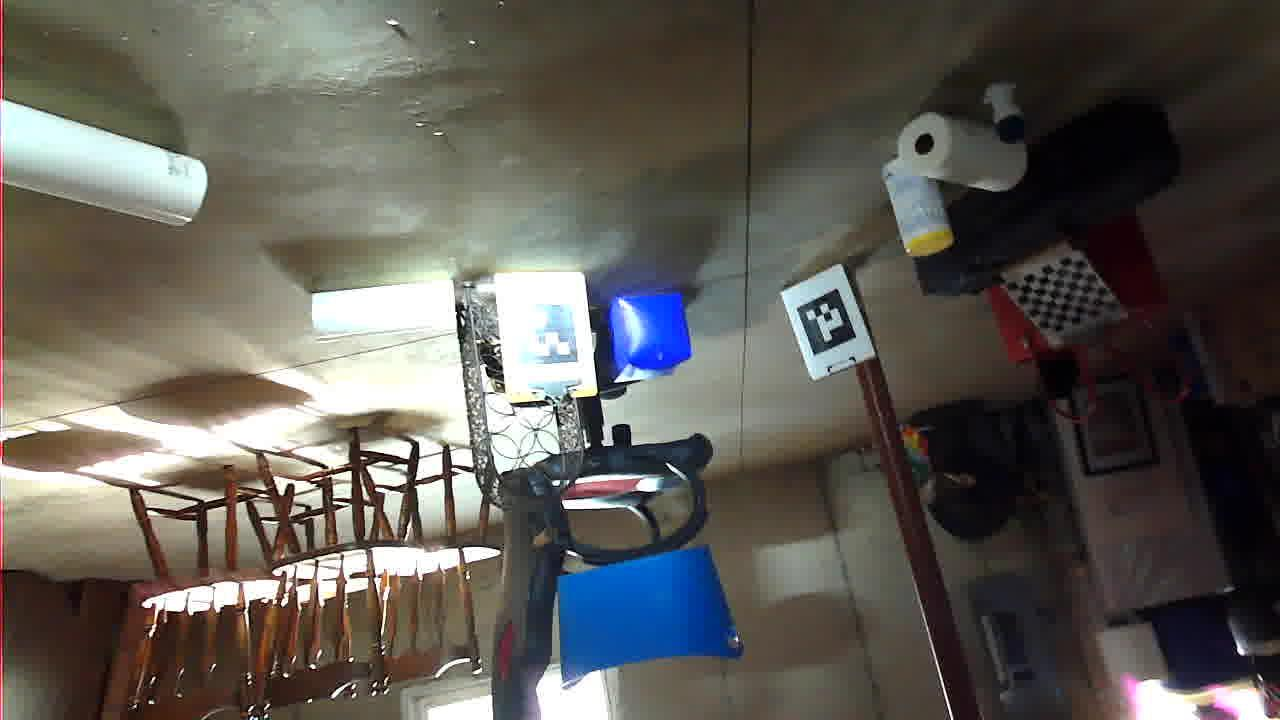coral: (1073, 494, 1280, 624), (826, 389, 968, 442)
